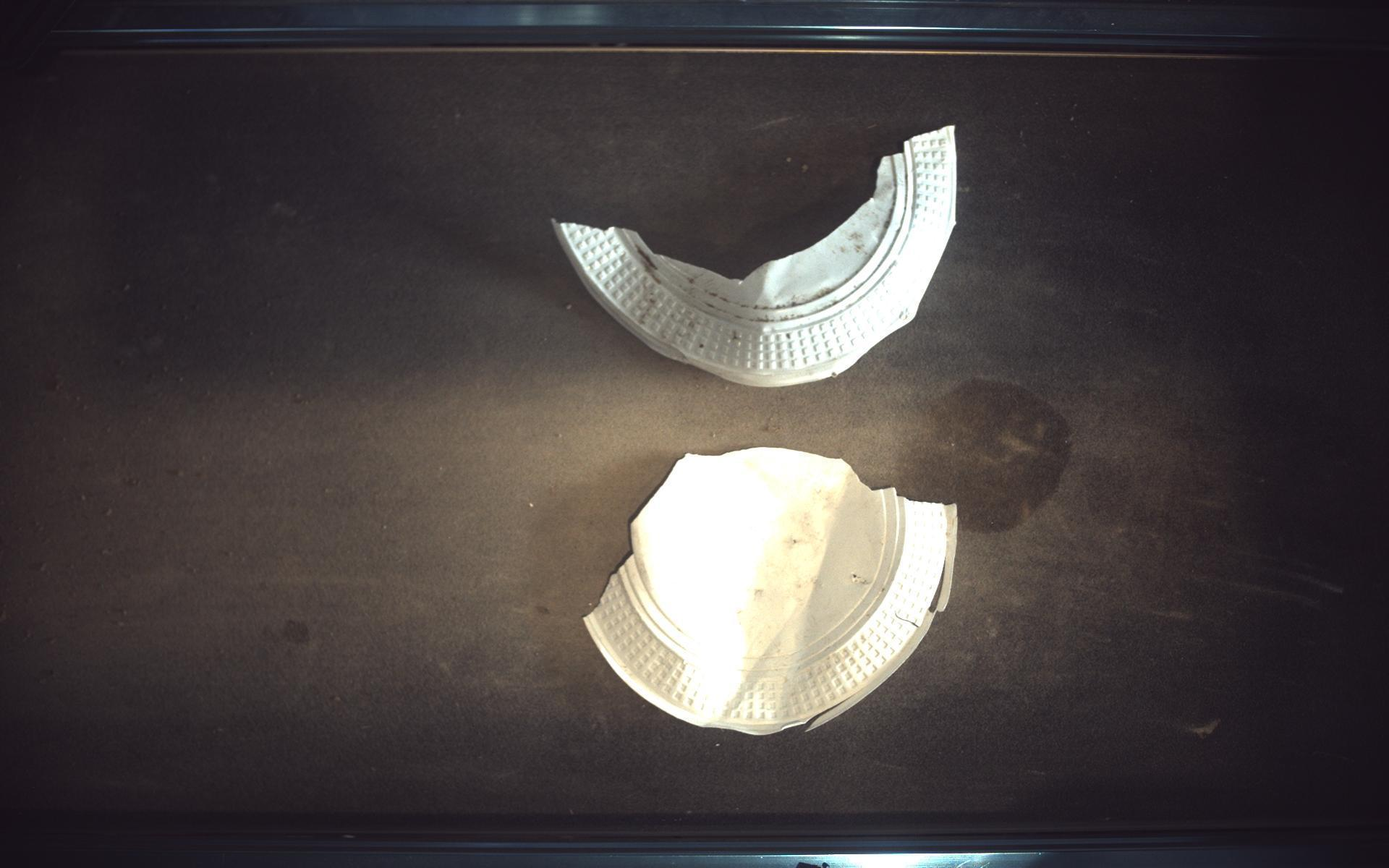general_w: (585, 448, 959, 736), (556, 124, 959, 386)
